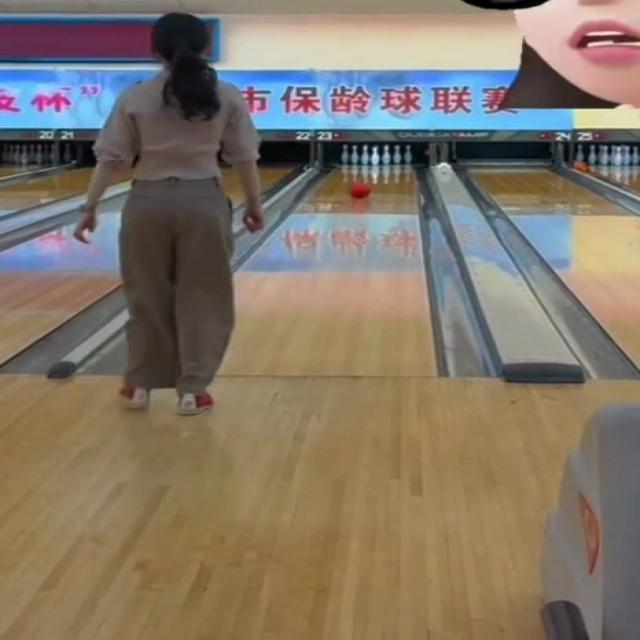alley: (224, 171, 435, 374)
balls: (352, 184, 369, 199)
bottle: (341, 144, 411, 166)
